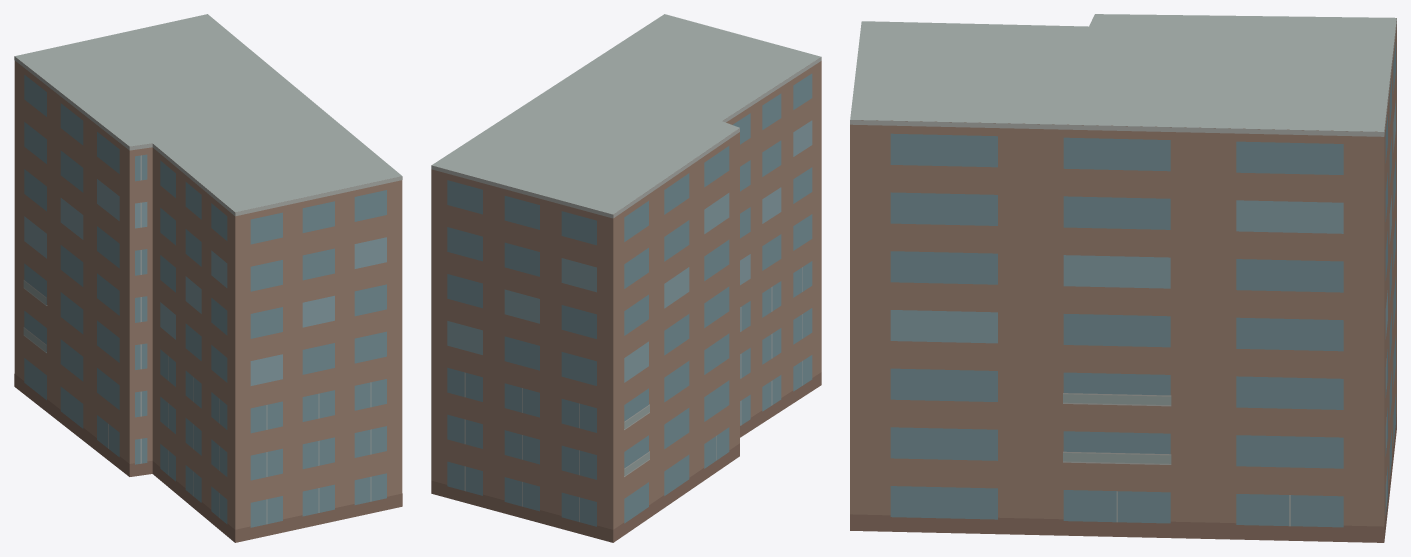
File: survey-upis-32728555.glb
The picture shows the model from 3 angles, left to right: view 1: azimuth 30°, elevation 25°; view 2: azimuth 150°, elevation 25°; view 3: azimuth 270°, elevation 25°; orthographic projection. The views are drawn at different scales.
Parts seen in each view (by area): view 1: survey-upis-32728555.tmp; view 2: survey-upis-32728555.tmp; view 3: survey-upis-32728555.tmp.
Boxes of the visible parts, bbox=[...] form: survey-upis-32728555.tmp: bbox=[14, 14, 402, 542]; survey-upis-32728555.tmp: bbox=[431, 14, 821, 542]; survey-upis-32728555.tmp: bbox=[850, 14, 1396, 542].
Bounding box in the file's own units: 12.5 × 20.3 × 24.49.
